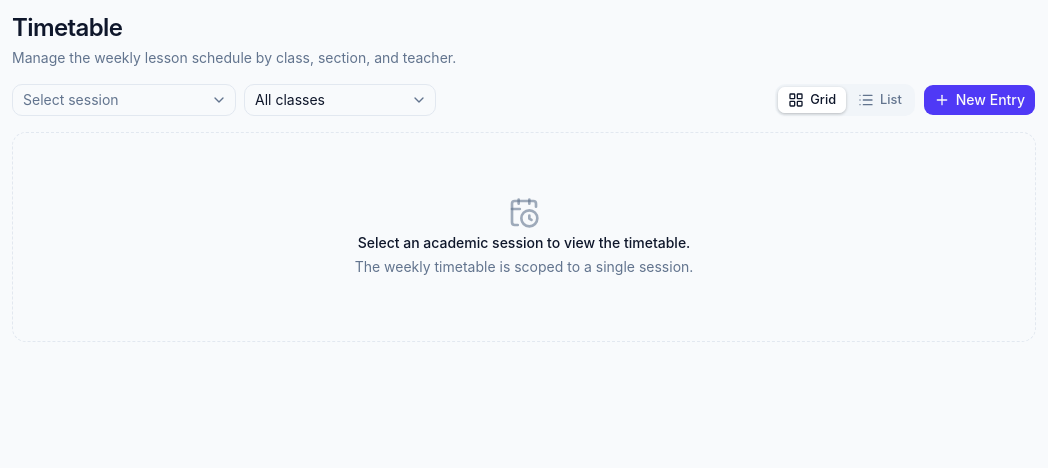
Test: TimetablePage view modes › renders the same entries in List on desktop instead of a blank area
Press the mouse on the dropdown named "Academic session" at (124, 100), box [12,84,236,116]
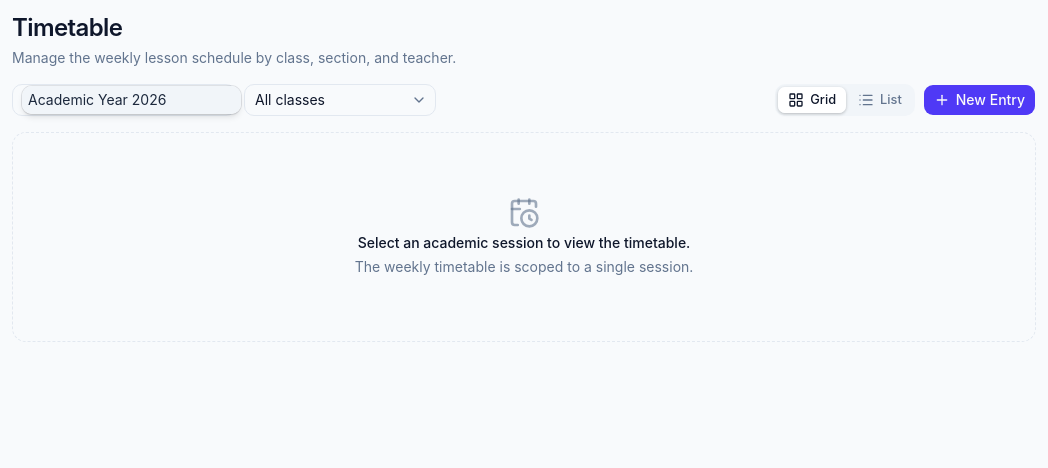
Click the option "Academic Year 2026".
click(132, 100)  # box [22,86,241,114]
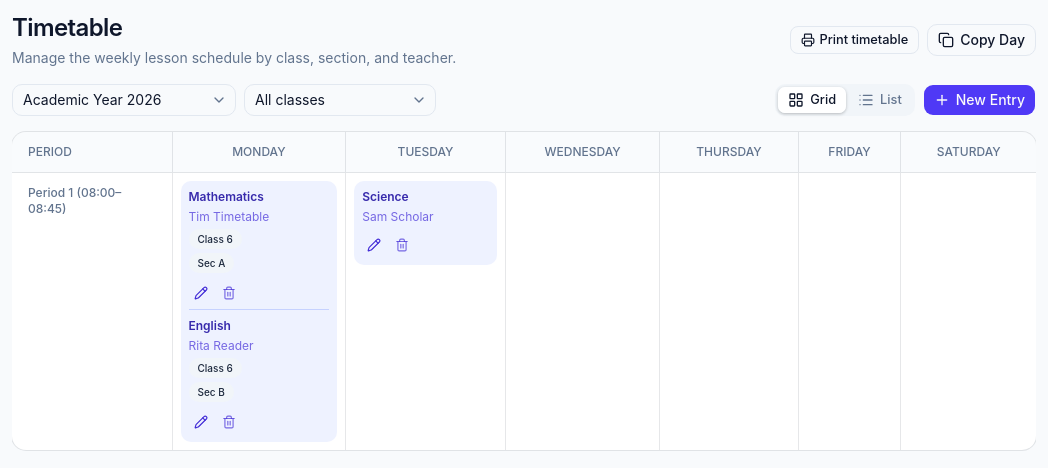
Click the button with aria-label "List view".
click(880, 100)  # box [847,86,913,114]
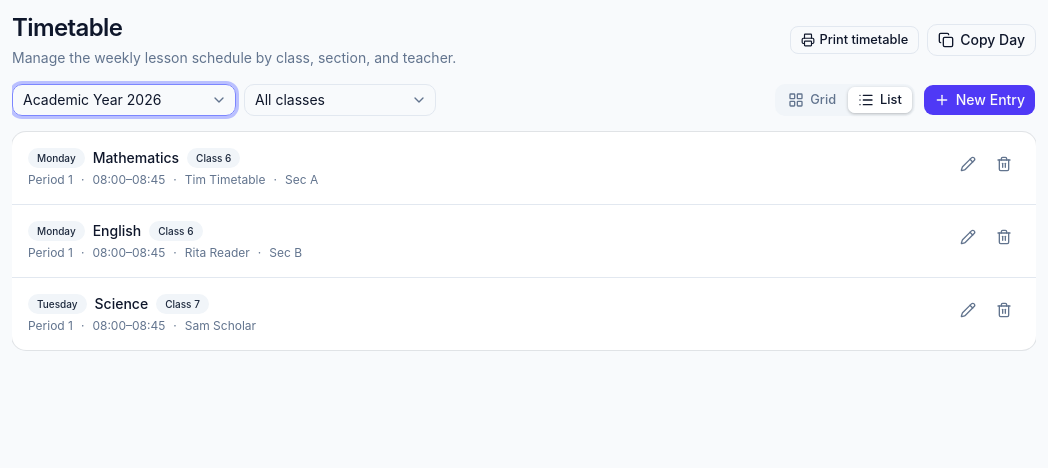
Expected: the text "Mathematics" is shown, [93,148,179,168]
Expected: the table is gone
Expected: the number of list items is 3, [12,132,1036,205]; [12,205,1036,278]; [28,294,1020,333]
